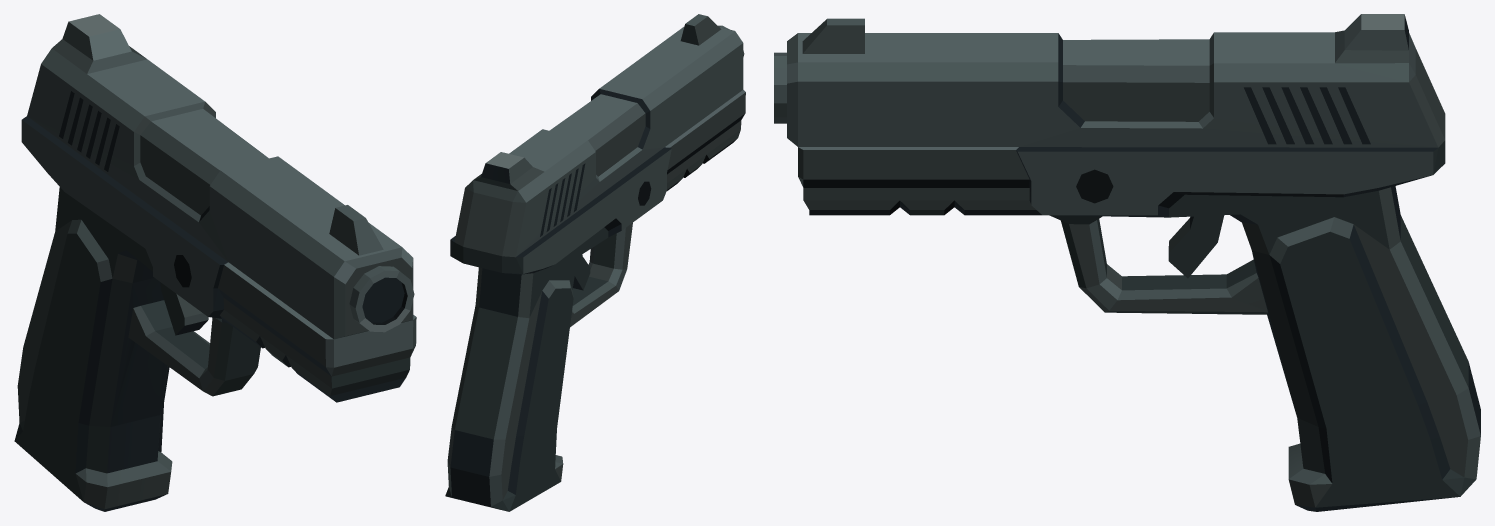
File: SSG_Guns_Pack_01.fbx
The picture shows the model from 3 angles, left to right: view 1: azimuth 30°, elevation 25°; view 2: azimuth 150°, elevation 25°; view 3: azimuth 270°, elevation 25°; orthographic projection. The views are drawn at different scales.
Visible parts, largest first — view 1: SSG_Guns_Pack_01, SSG_Guns_Pack_01_Trigger; view 2: SSG_Guns_Pack_01, SSG_Guns_Pack_01_Trigger; view 3: SSG_Guns_Pack_01, SSG_Guns_Pack_01_Trigger.
Boxes of the visible parts, left/top/right/bottom form: SSG_Guns_Pack_01: left=14, top=14, right=416, bottom=511; SSG_Guns_Pack_01_Trigger: left=160, top=282, right=208, bottom=335; SSG_Guns_Pack_01: left=445, top=14, right=745, bottom=511; SSG_Guns_Pack_01_Trigger: left=573, top=255, right=590, bottom=290; SSG_Guns_Pack_01: left=774, top=14, right=1480, bottom=511; SSG_Guns_Pack_01_Trigger: left=1168, top=215, right=1224, bottom=278.
Size of the model in its own units: 0.0636 by 0.2809 by 0.3783.
